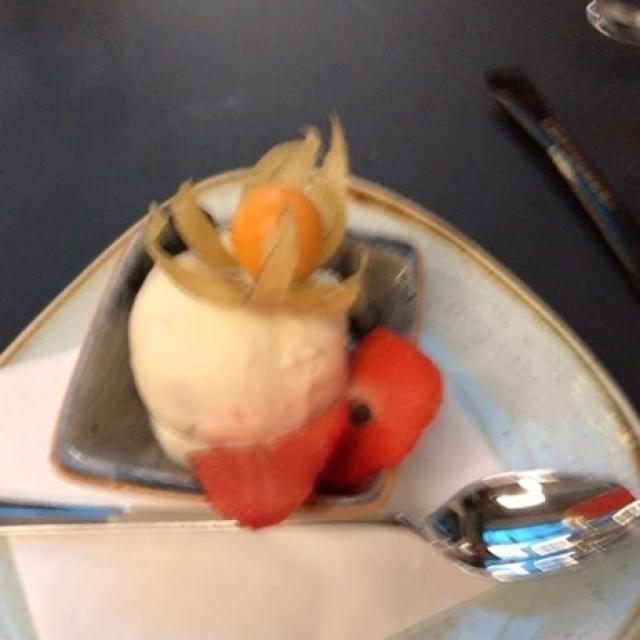strawberries: (186, 334, 439, 523)
